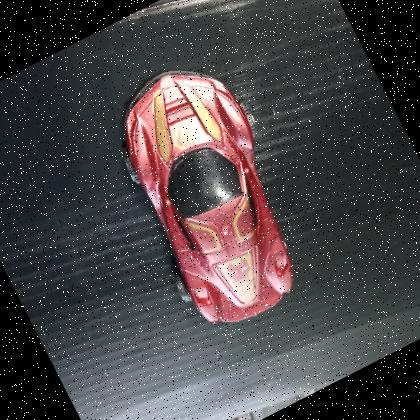Car: (82, 41, 340, 346)
